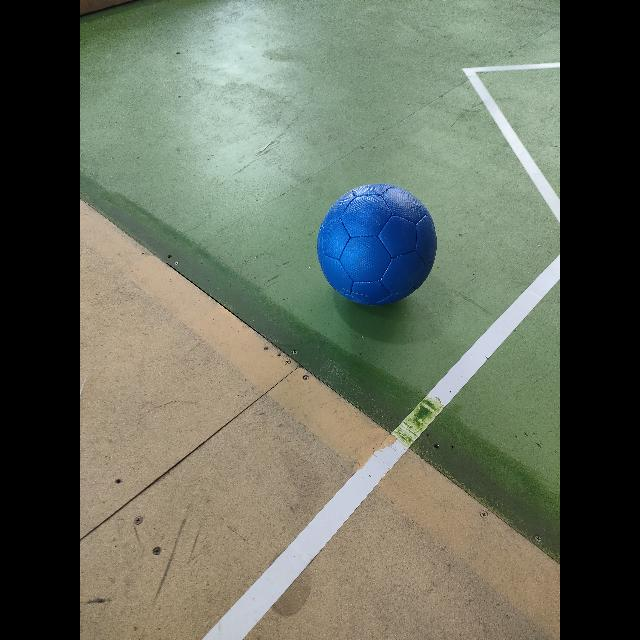B: (317, 184, 437, 306)
